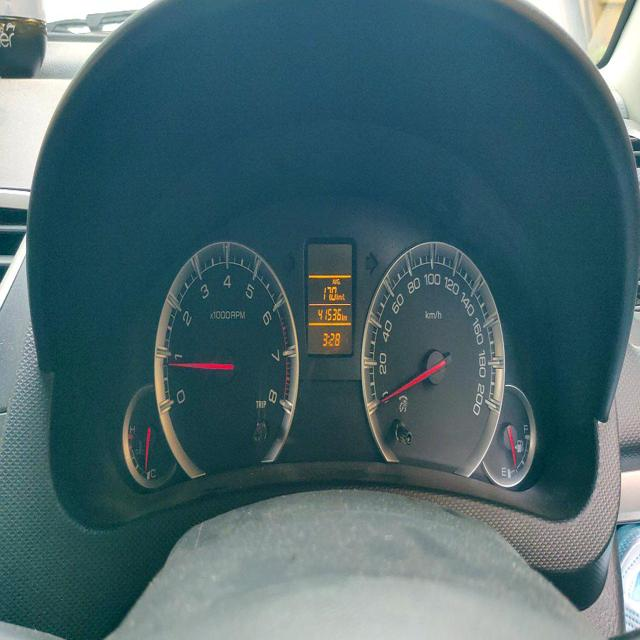odometer: (313, 303, 343, 326)
